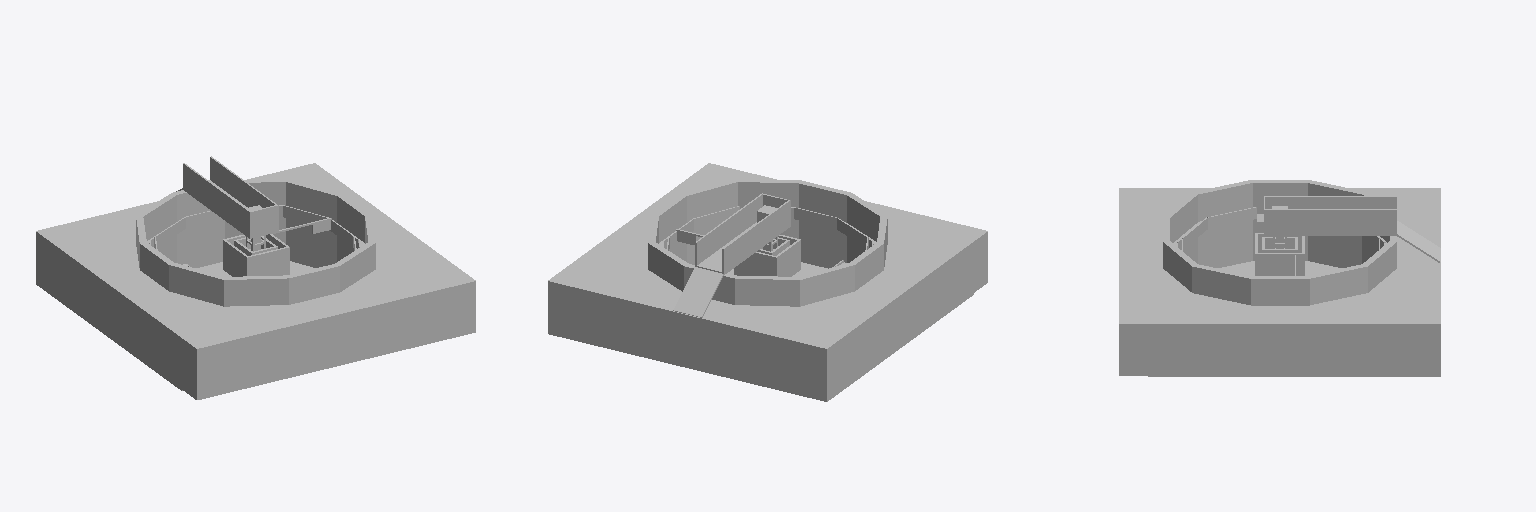
Rendered from clarifier_mirrored.obj.
3 views of the same model, side by side, from view 1: azimuth 30°, elevation 25°; view 2: azimuth 150°, elevation 25°; view 3: azimuth 270°, elevation 25° (orthographic).
Parts seen in each view (by area): view 1: cube; view 2: cube; view 3: cube.
Part boxes in pixels (bbox=[...]): cube: bbox=[36, 156, 475, 399]; cube: bbox=[548, 163, 987, 401]; cube: bbox=[1119, 180, 1440, 376].
Size of the model in its own units: 11 by 4 by 11.